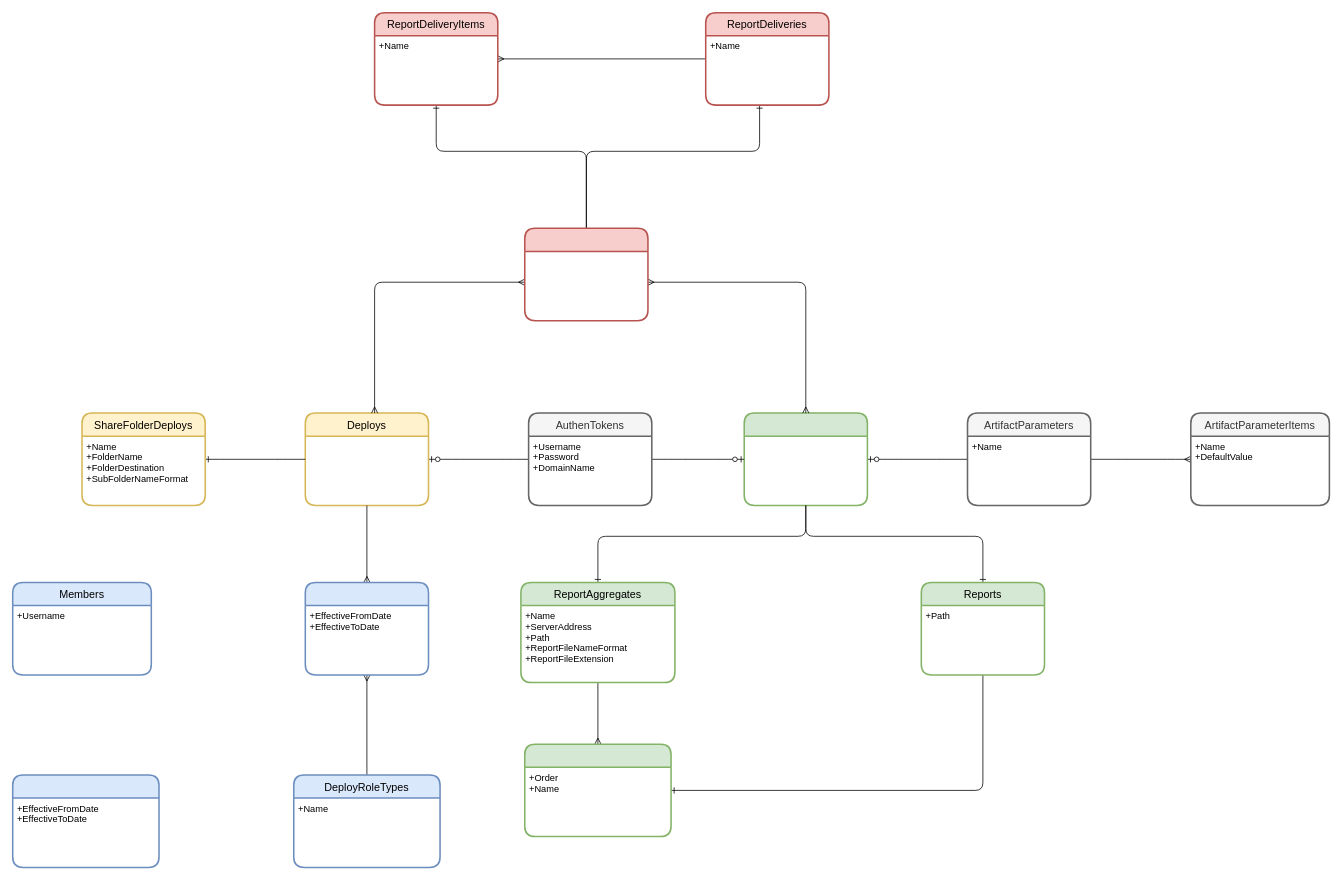
Some shapes in this 1342 by 880 pixel diagram are drawn without their labels. Here are the shapes that lost their labels. From the top down, the box of each, then its label:
(524, 227, 648, 321): Deliveries
(743, 412, 868, 506): Artifacts
(304, 581, 429, 675): DeployRoles
(524, 743, 671, 837): ReportAggregateItems
(12, 774, 159, 868): MemberDeployRoles
